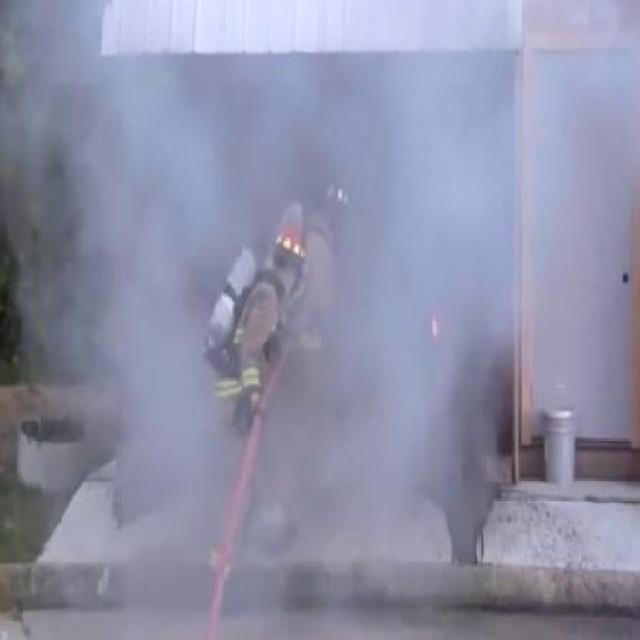smoke: (46, 57, 206, 488), (360, 70, 511, 504), (214, 66, 354, 186)
